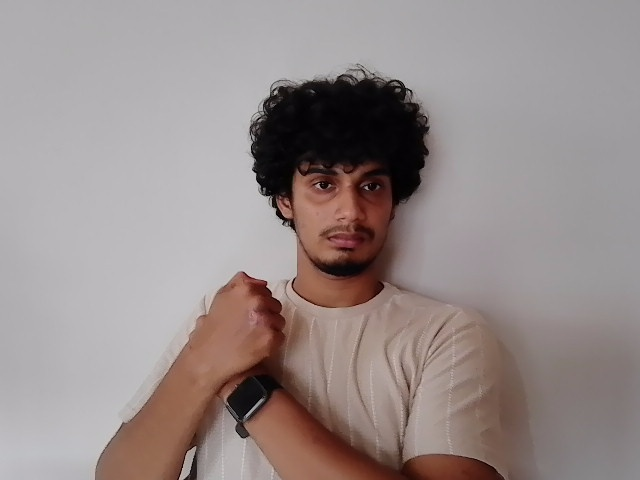love: (176, 274, 287, 405)
